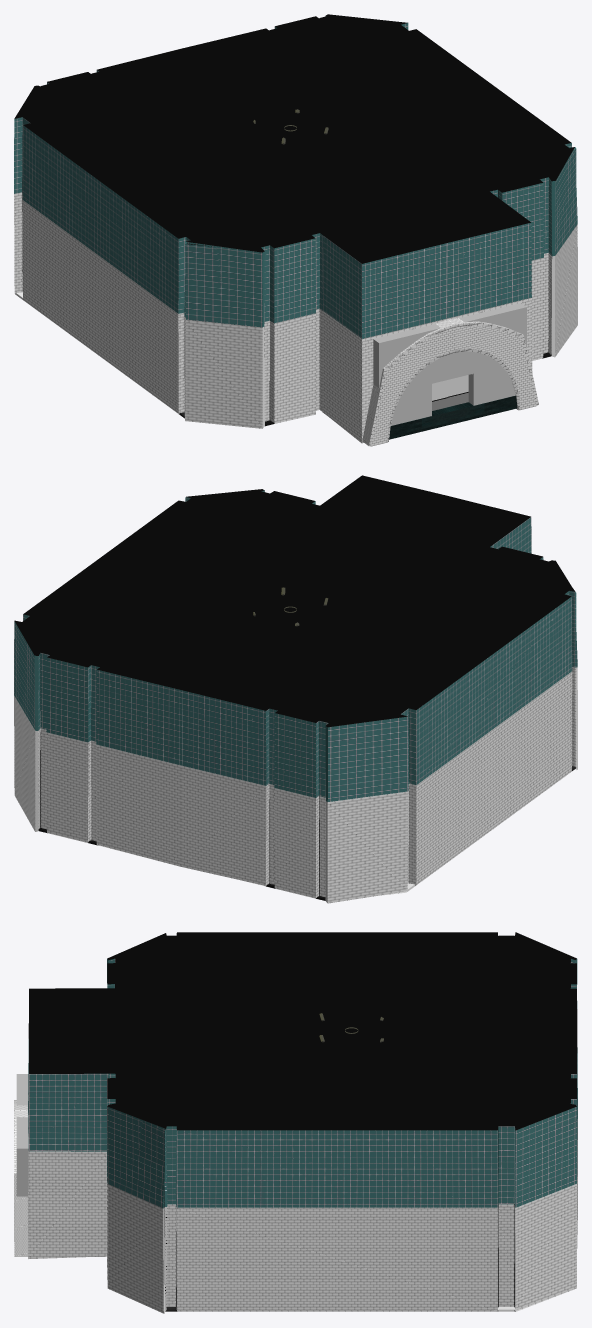
Rendered from lobby_map.glb.
The picture shows the model from 3 angles, top to bottom: view 1: azimuth 30°, elevation 25°; view 2: azimuth 150°, elevation 25°; view 3: azimuth 270°, elevation 25°; orthographic projection. The views are drawn at different scales.
Visible parts, largest first — view 1: Paredes, puerta D; view 2: Paredes; view 3: Paredes.
Boxes of the visible parts, x1,y1,x2,y2 form: Paredes: (14, 14, 577, 446); puerta D: (447, 375, 468, 406); Paredes: (14, 475, 577, 903); Paredes: (14, 932, 577, 1313).
Bounding box in the file's own units: 70.59 × 31.76 × 84.62.
18 materials, 5 textured.
